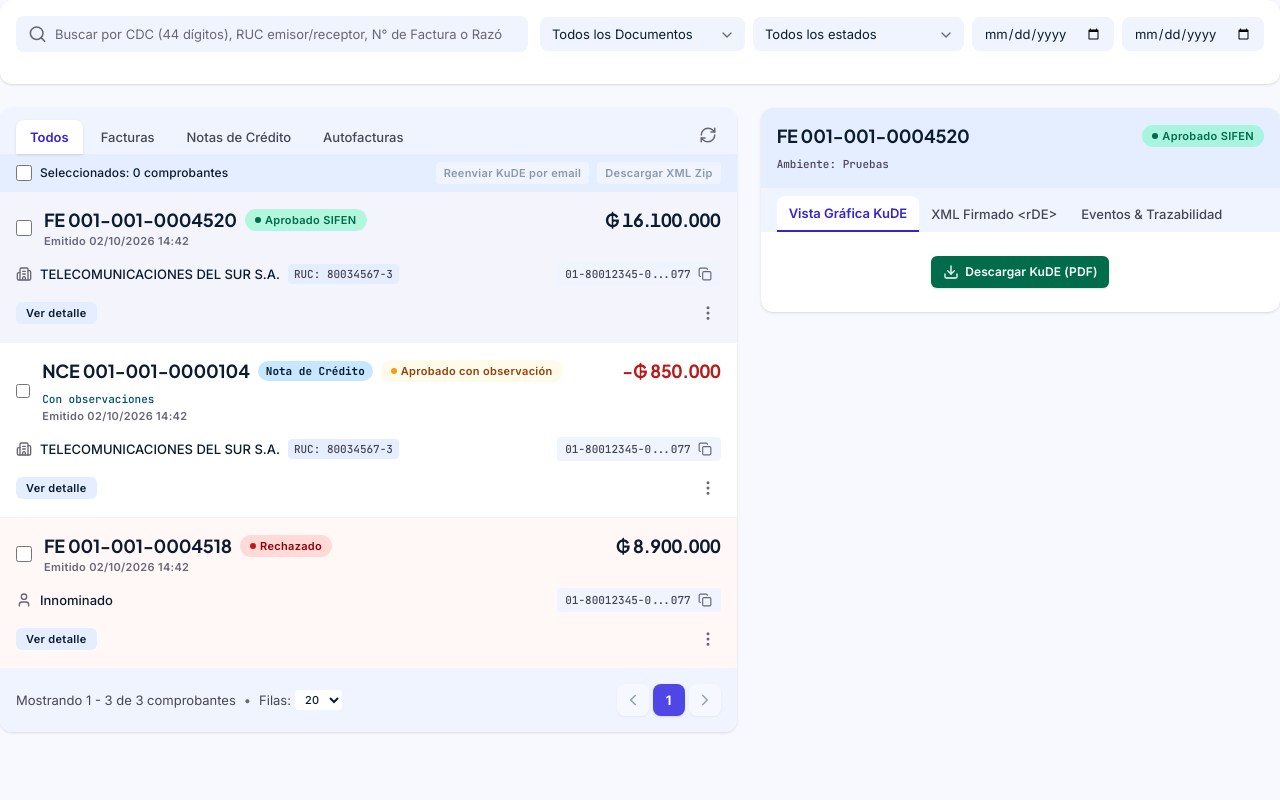
Scenario: DocumentsBrowser (filters) › filters by status and date range and resets everything with "Limpiar filtros"
Select "Rechazado" in the dropdown named "Estado" at x=858, y=34, box [753,17,964,51]
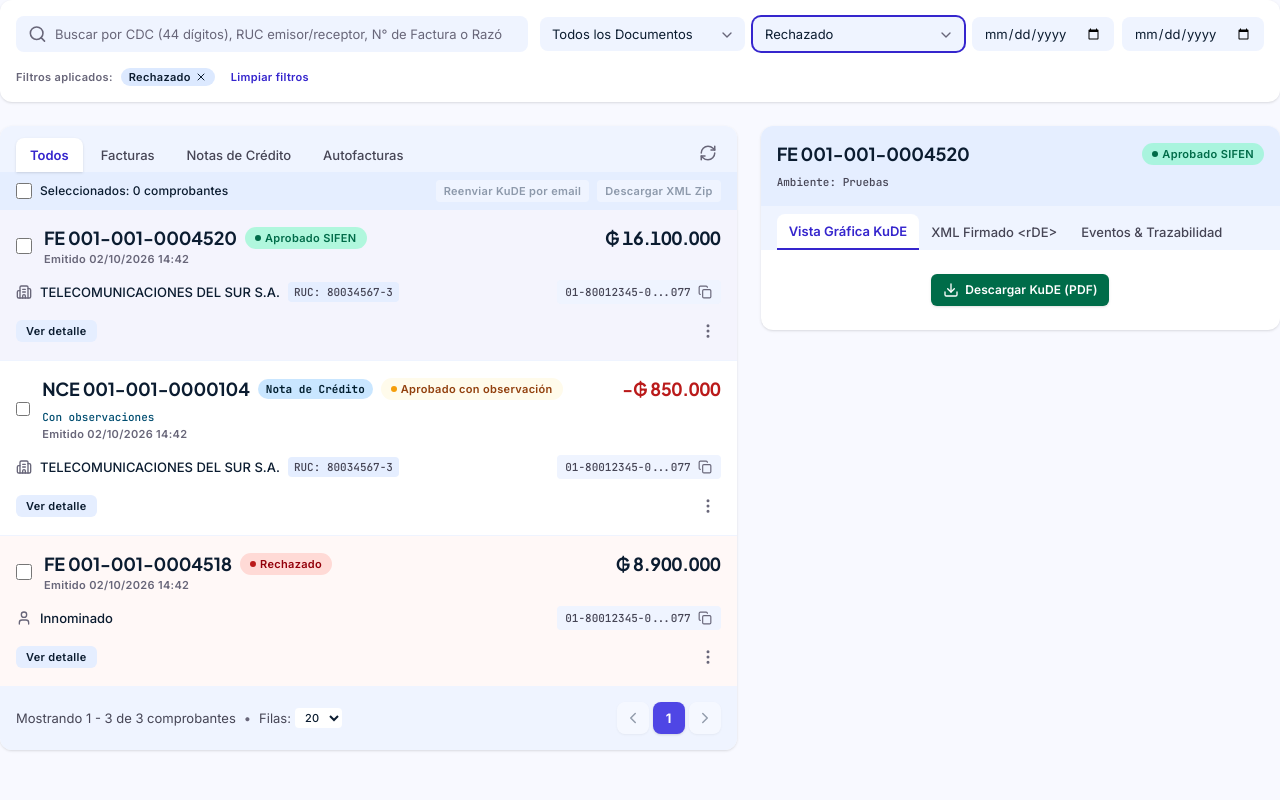
Type "2026-10-01" into the date field named "Desde".
click(1043, 34); type("2026-10-01")  # box [972,17,1114,51]
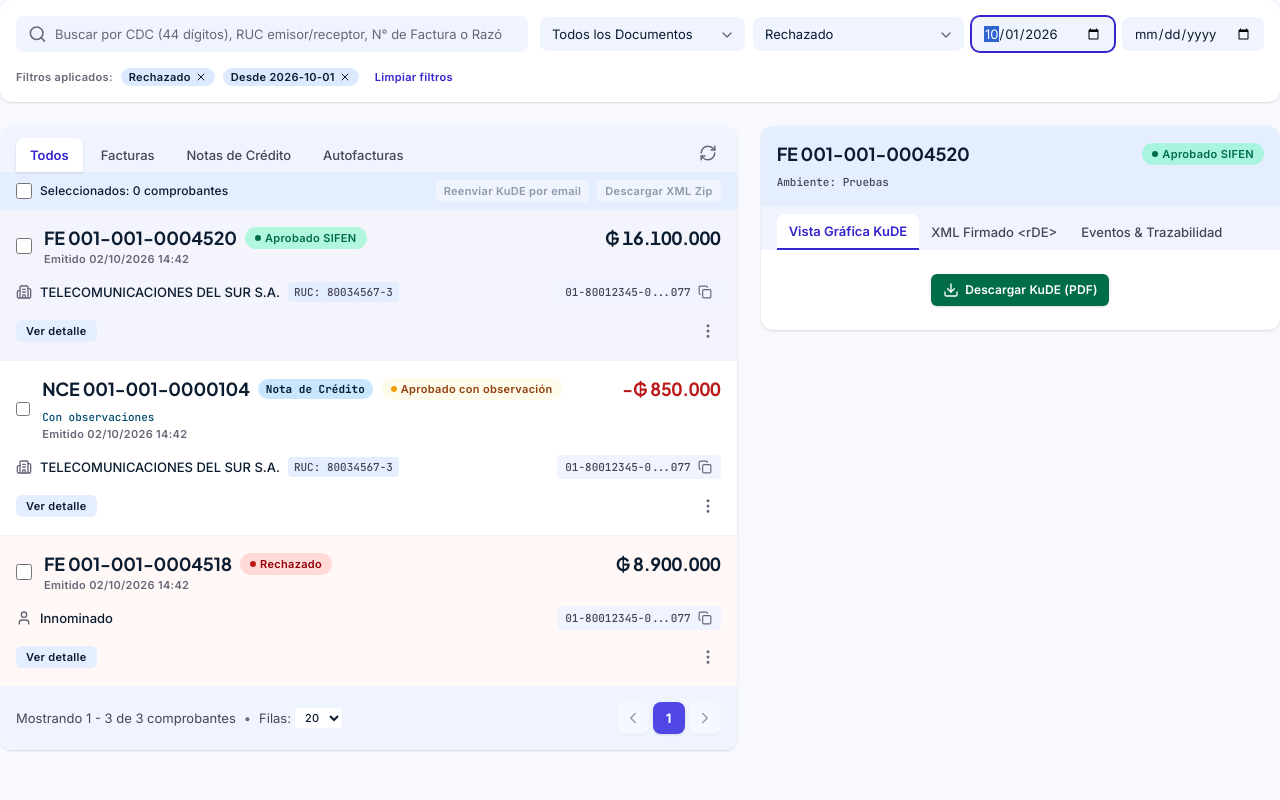
Type "2026-10-31" into the date field named "Hasta".
click(1193, 34); type("2026-10-31")  # box [1122,17,1264,51]
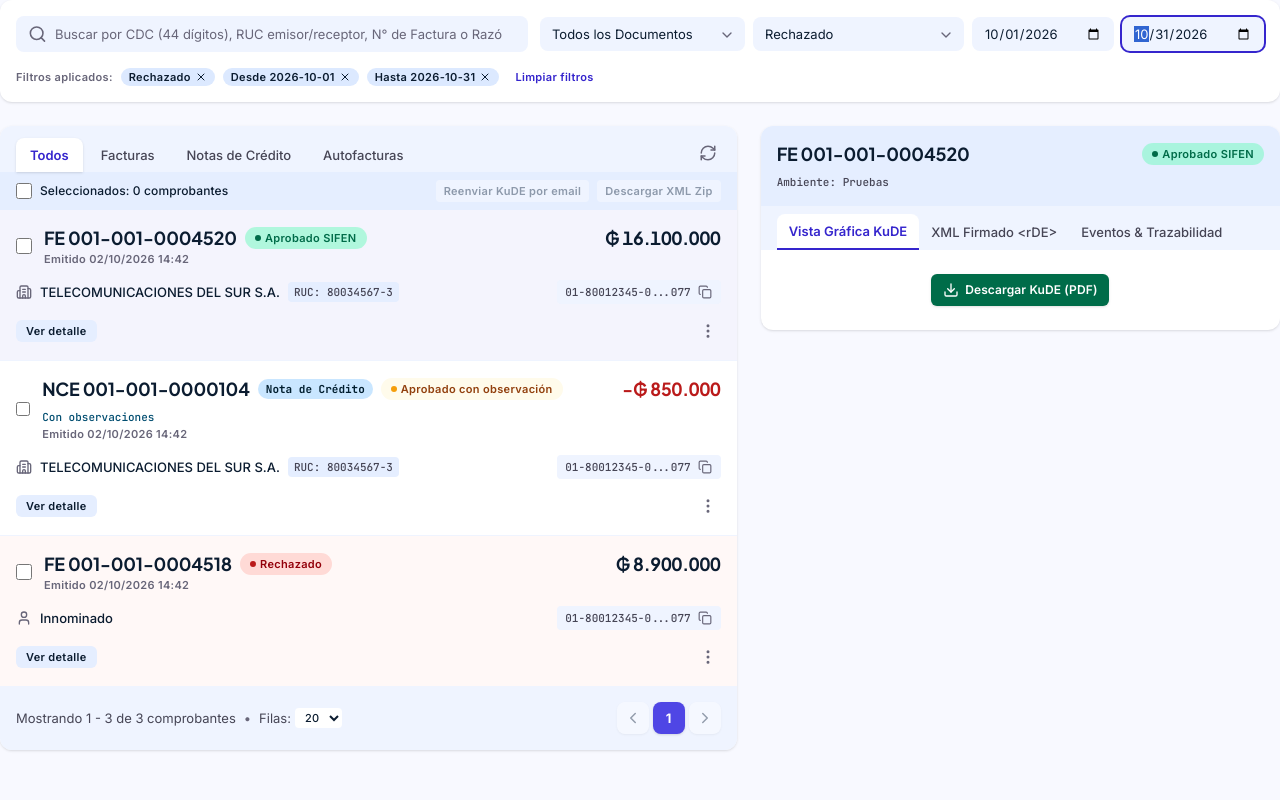
Click the button named "Quitar filtro Rechazado".
click(201, 77)  # box [195,71,207,83]
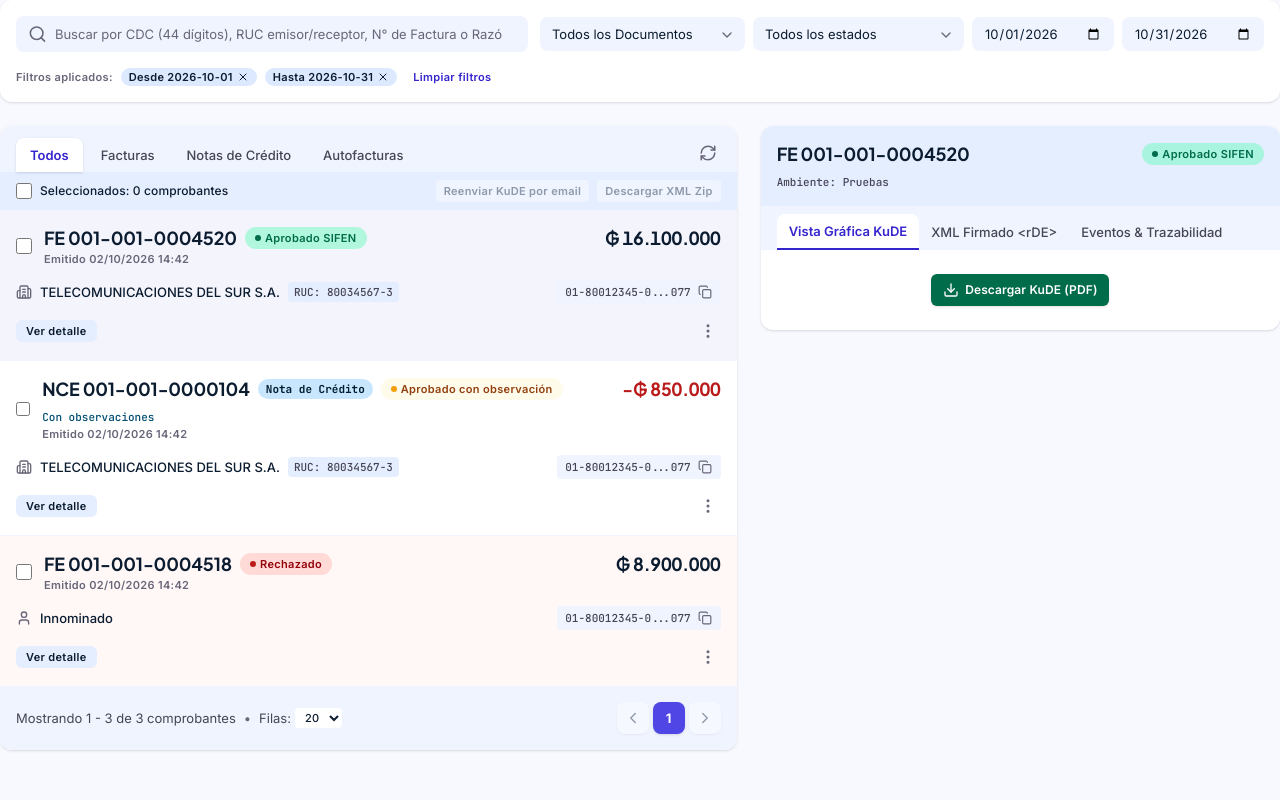
Click the button "Limpiar filtros".
click(452, 77)  # box [413,70,492,84]
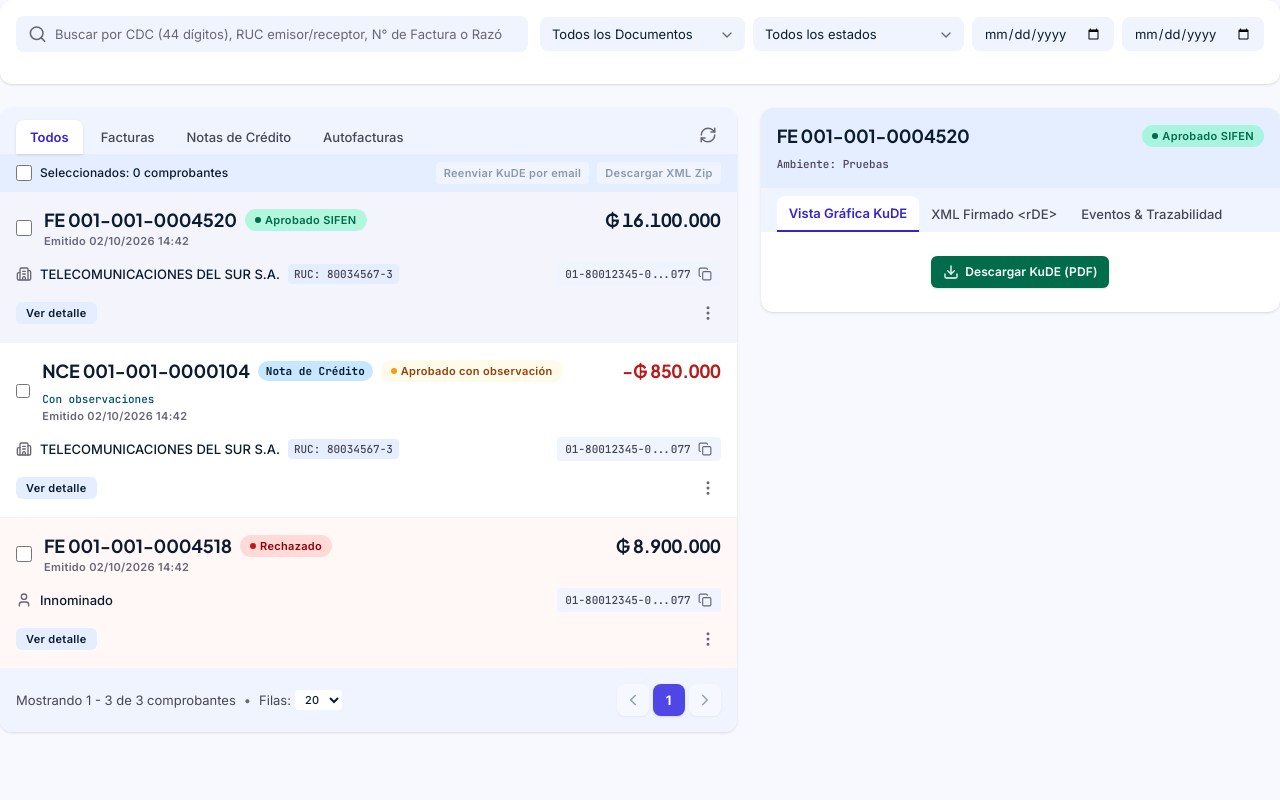
Now the text "Filtros aplicados" is gone
